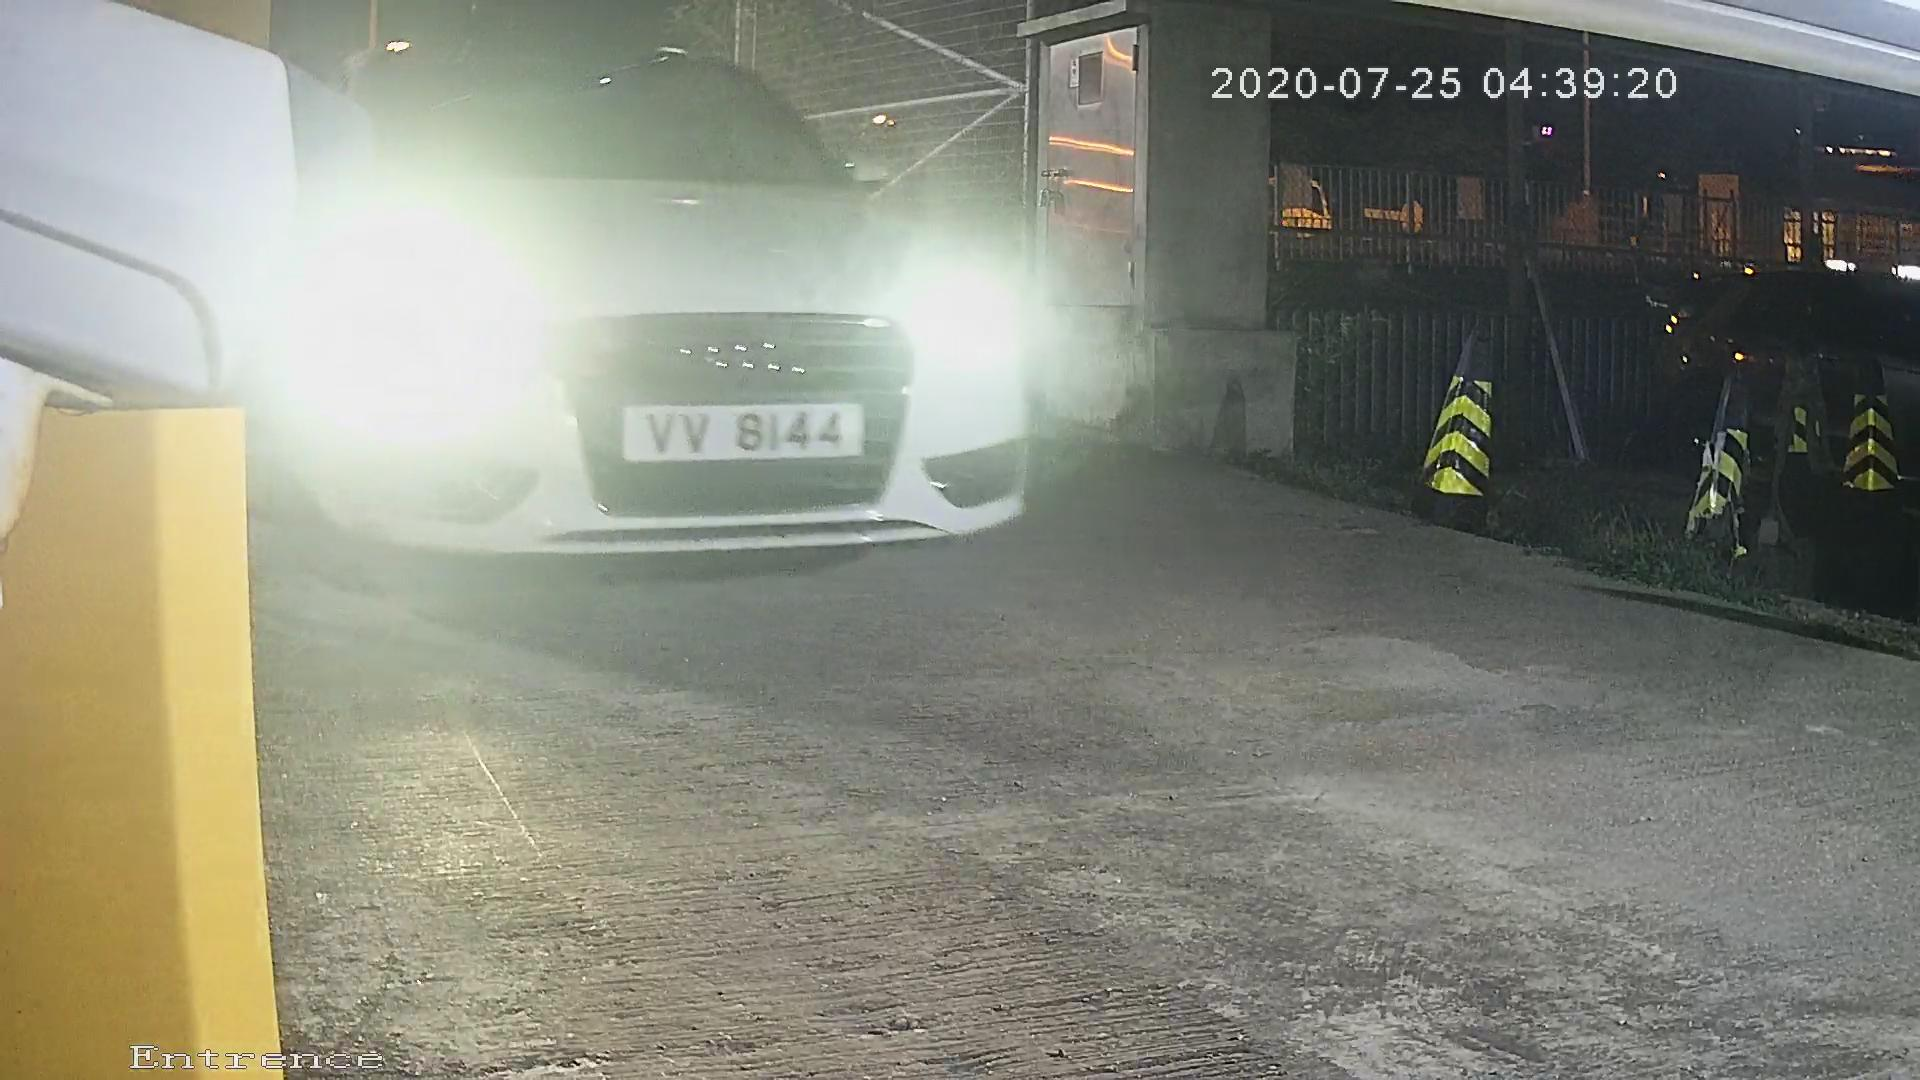License Plate: (596, 384, 886, 489)
